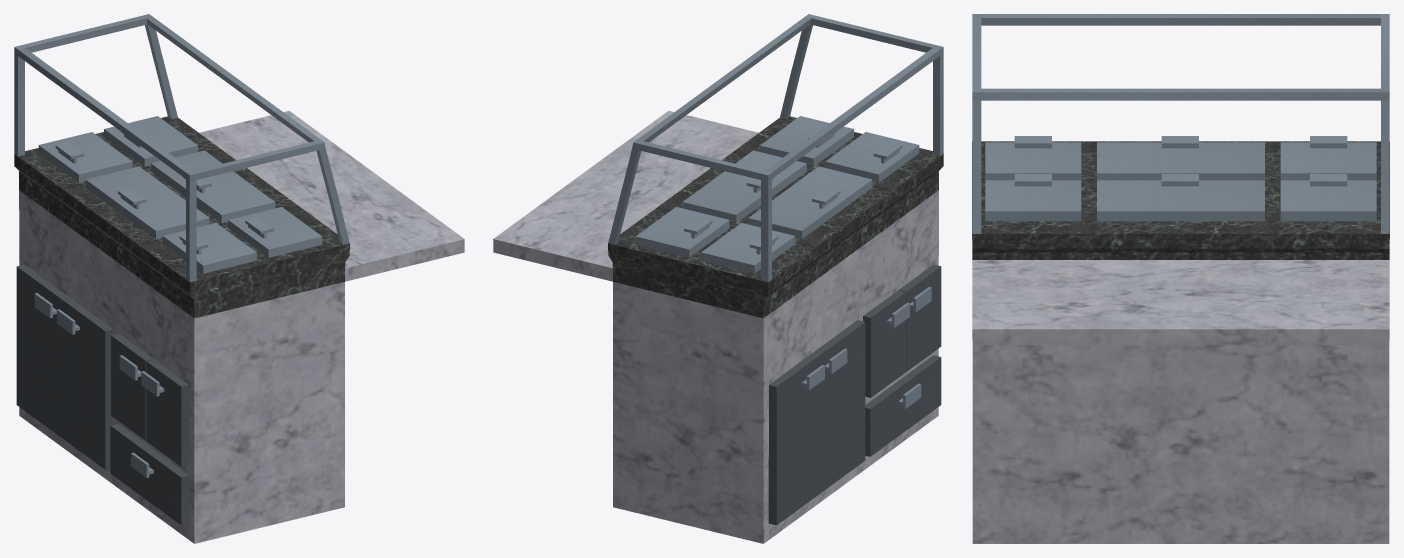
The model's file is kitchen_booth.fbx.
3 views of the same model, side by side, from view 1: azimuth 30°, elevation 25°; view 2: azimuth 150°, elevation 25°; view 3: azimuth 270°, elevation 25° (orthographic). The views are drawn at different scales.
Parts seen in each view (by area): view 1: kitchen_booth; view 2: kitchen_booth; view 3: kitchen_booth.
Boxes of the visible parts, bbox=[...] form: kitchen_booth: bbox=[14, 14, 464, 543]; kitchen_booth: bbox=[493, 14, 943, 543]; kitchen_booth: bbox=[972, 14, 1389, 543].
Bounding box in the file's own units: 133 × 165 × 142.
Materials: 1 (1 with a texture image).
